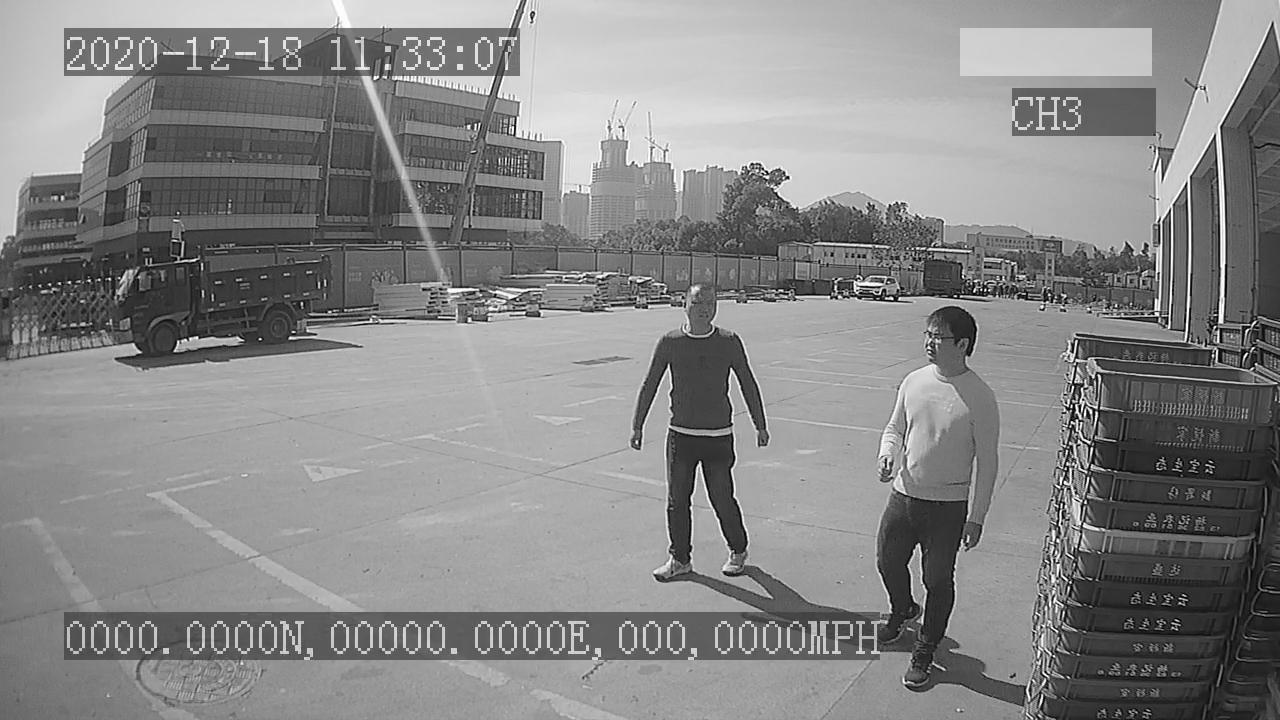person: (632, 274, 774, 583)
